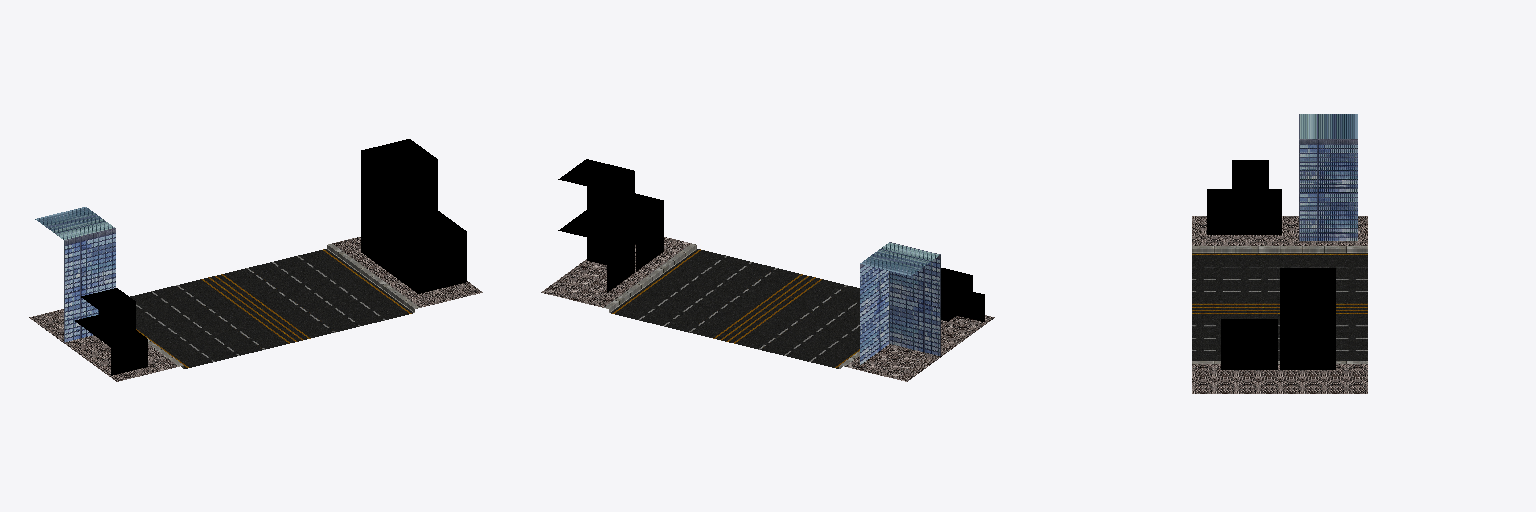
The picture shows the model from 3 angles: view 1: azimuth 30°, elevation 25°; view 2: azimuth 150°, elevation 25°; view 3: azimuth 270°, elevation 25°; orthographic projection.
Parts seen in each view (by area): view 1: Floor, Right, Left; view 2: Floor, Left, Right; view 3: Floor, Left, Right.
Part boxes in pixels (left/top/right/bottom): Floor: left=29, top=237, right=482, bottom=381; Right: left=361, top=139, right=466, bottom=293; Left: left=35, top=207, right=147, bottom=375; Floor: left=541, top=237, right=994, bottom=381; Left: left=860, top=242, right=984, bottom=364; Right: left=558, top=159, right=663, bottom=292; Floor: left=1192, top=216, right=1367, bottom=393; Left: left=1207, top=114, right=1357, bottom=240; Right: left=1221, top=268, right=1335, bottom=369.
Bounding box in the file's own units: 48 × 13.24 × 20.
Materials: 4 (2 with a texture image).